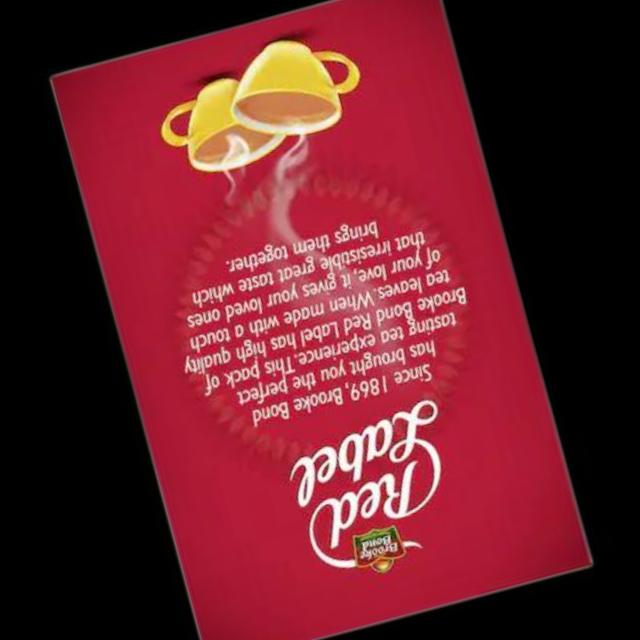Brooke Bond Red Label Leaf Tea 500 g: (35, 0, 604, 640)
